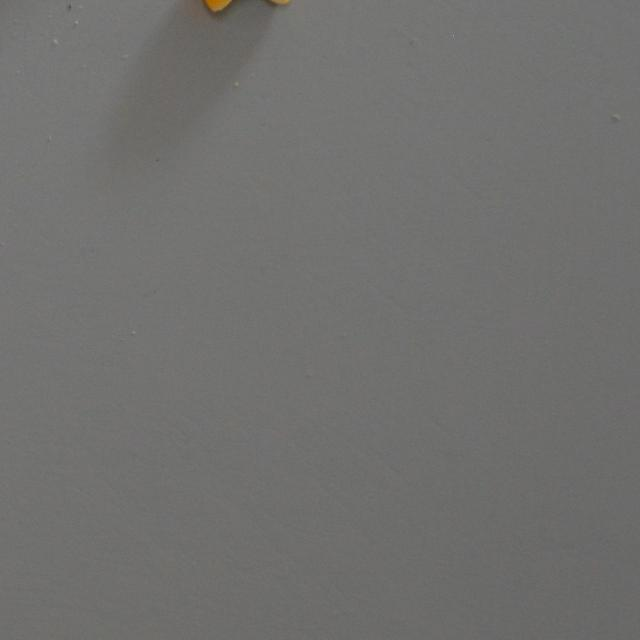no_canjicado: (192, 0, 300, 14)
